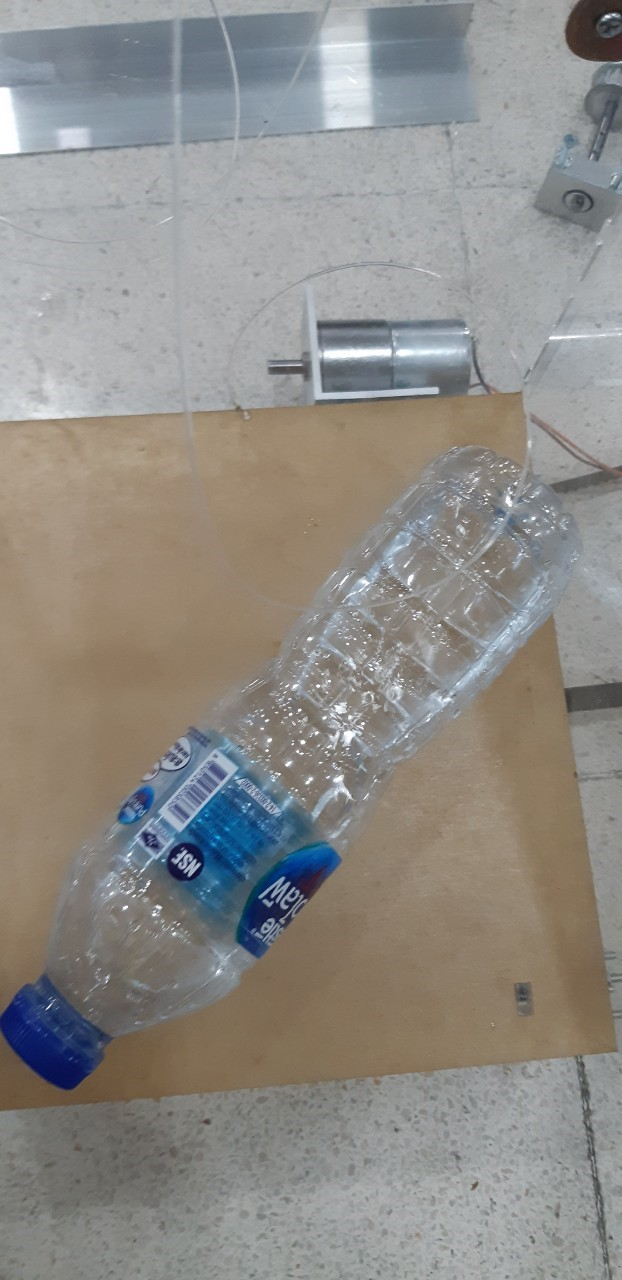PlasticBottle: (1, 437, 582, 1100)
